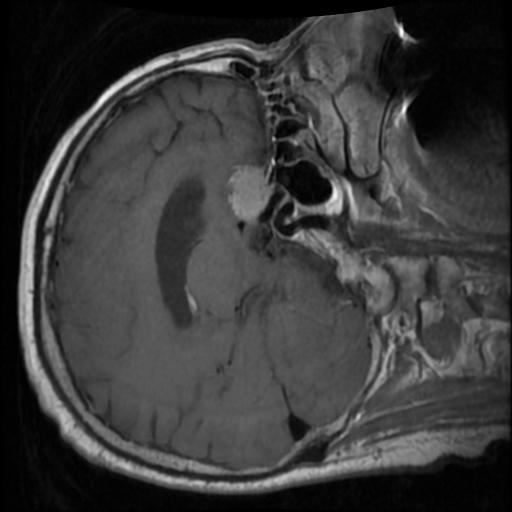pituitary tumour: (228, 165, 272, 222)
